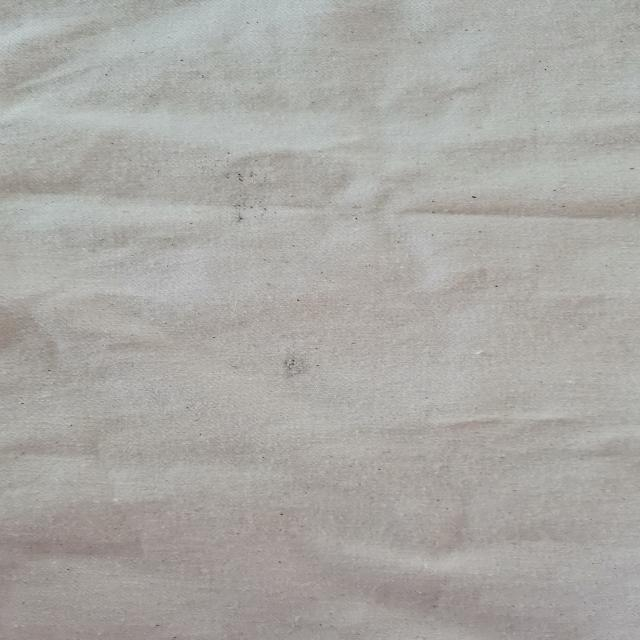taaaches: (260, 338, 342, 390)
